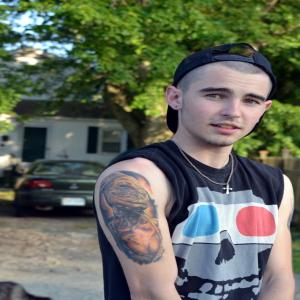Vehicle-registration-plate: (61, 197, 88, 207)
